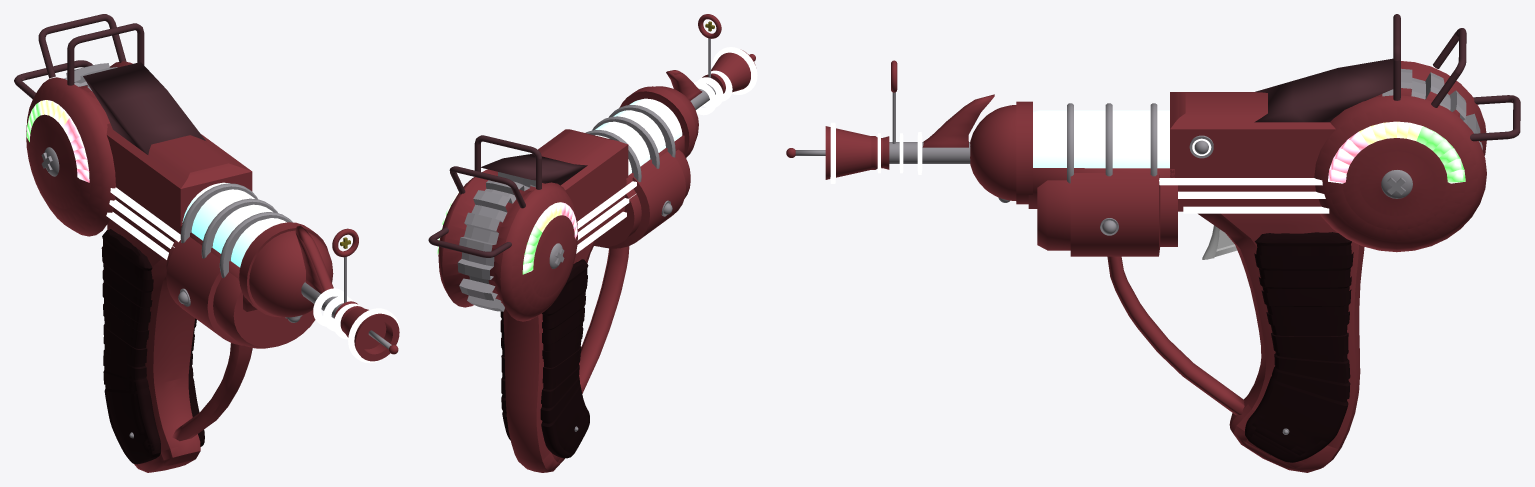
Rendered from raygun-v1.glb.
3 renders of one model, left to right at view 1: azimuth 30°, elevation 25°; view 2: azimuth 150°, elevation 25°; view 3: azimuth 270°, elevation 25°, orthographic. The views are drawn at different scales.
Parts seen in each view (by area): view 1: raygun-v1; view 2: raygun-v1; view 3: raygun-v1.
Part boxes in pixels (<box>): raygun-v1: <box>14,14,399,472</box>; raygun-v1: <box>428,14,757,472</box>; raygun-v1: <box>786,14,1520,472</box>.
Bounding box in the file's own units: 0.1064 × 0.3276 × 0.5.
